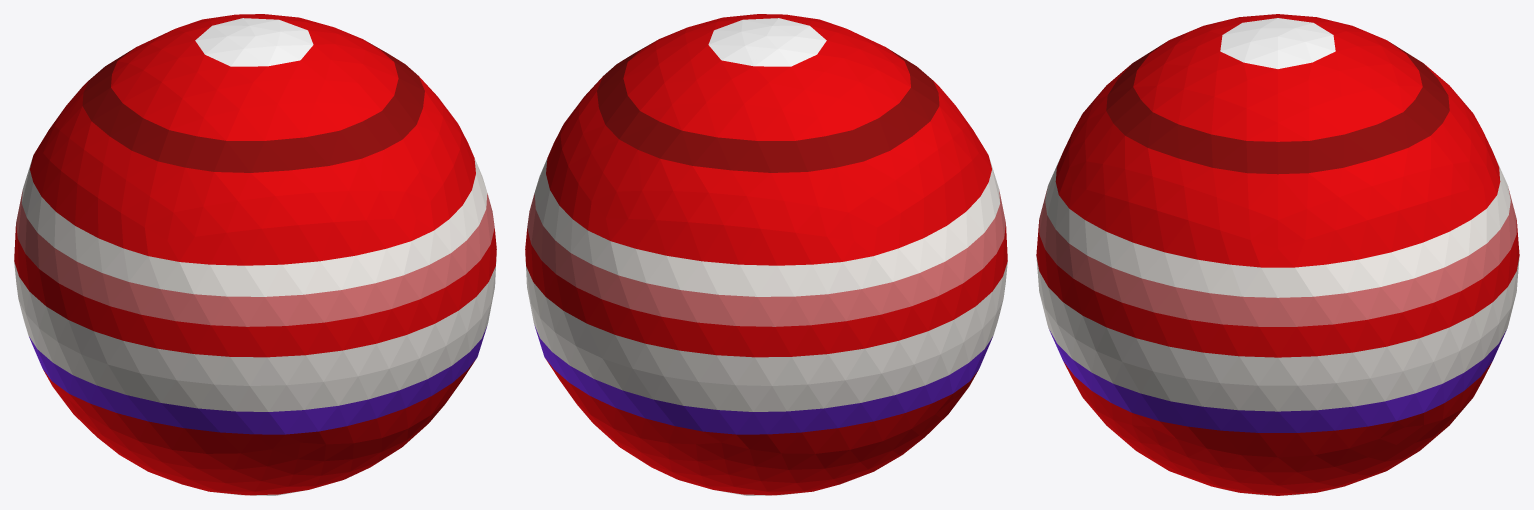
Rendered from Planet2.glb.
3 renders of one model, left to right at view 1: azimuth 30°, elevation 25°; view 2: azimuth 150°, elevation 25°; view 3: azimuth 270°, elevation 25°, orthographic.
Visible parts, largest first — view 1: Planet2; view 2: Planet2; view 3: Planet2.
Part boxes in pixels (box(x1,y1,x2,y2)): Planet2: box(14, 14, 496, 495); Planet2: box(525, 14, 1007, 495); Planet2: box(1036, 14, 1519, 495).
Bounding box in the file's own units: 10 × 10 × 10.
